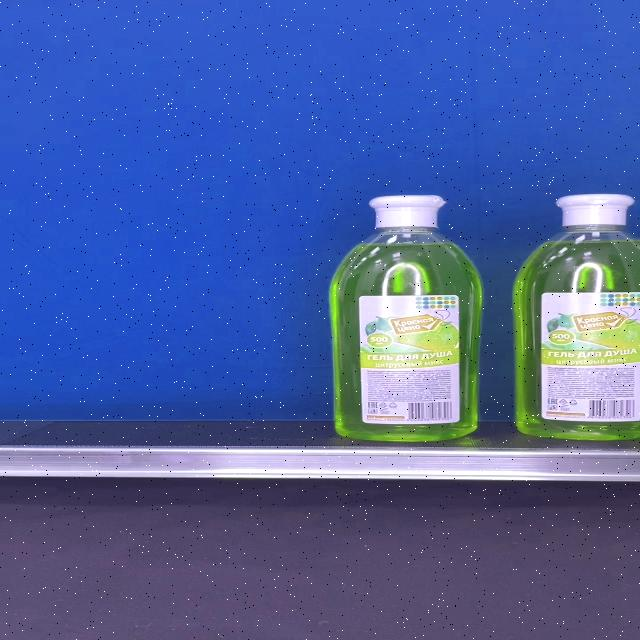Bottle: (330, 195, 482, 442), (515, 194, 640, 440)
Cap: (369, 195, 447, 229), (554, 194, 636, 226)
